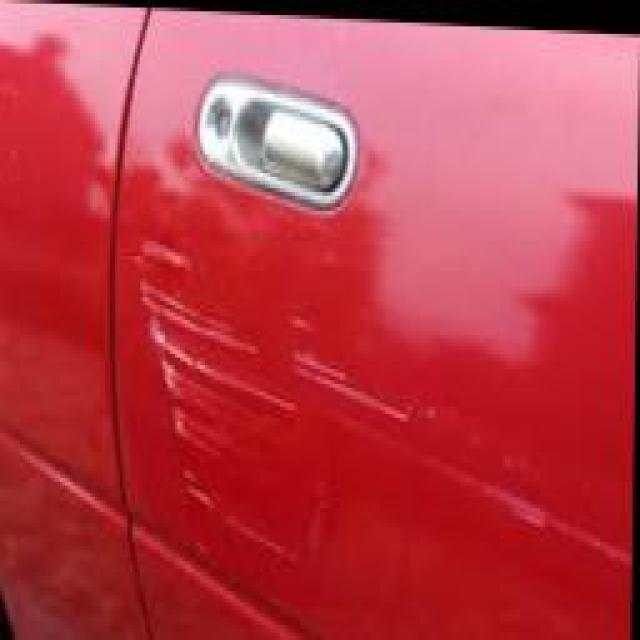Door: (123, 66, 530, 629)
